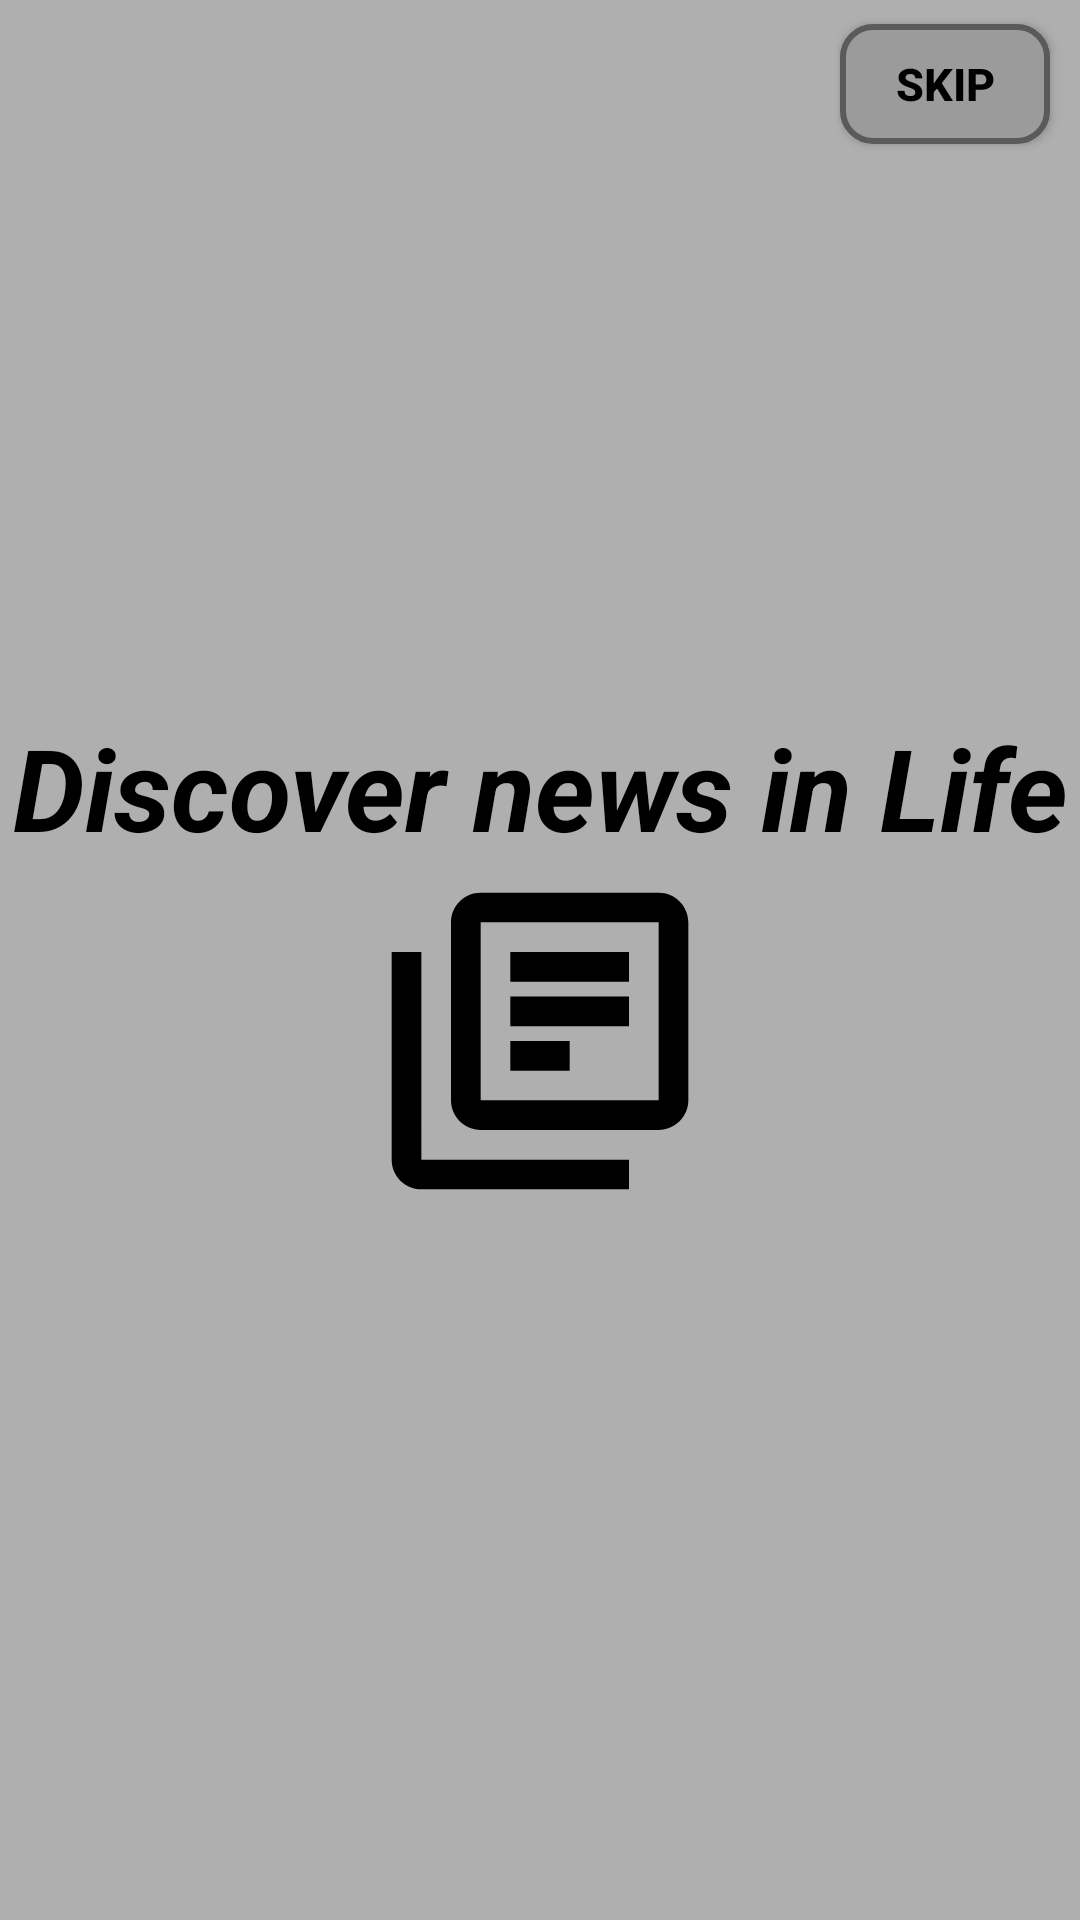

Point at icon controls on the screen. Image size 1080x1920, points as [x,y].
library books: [540,1041]
